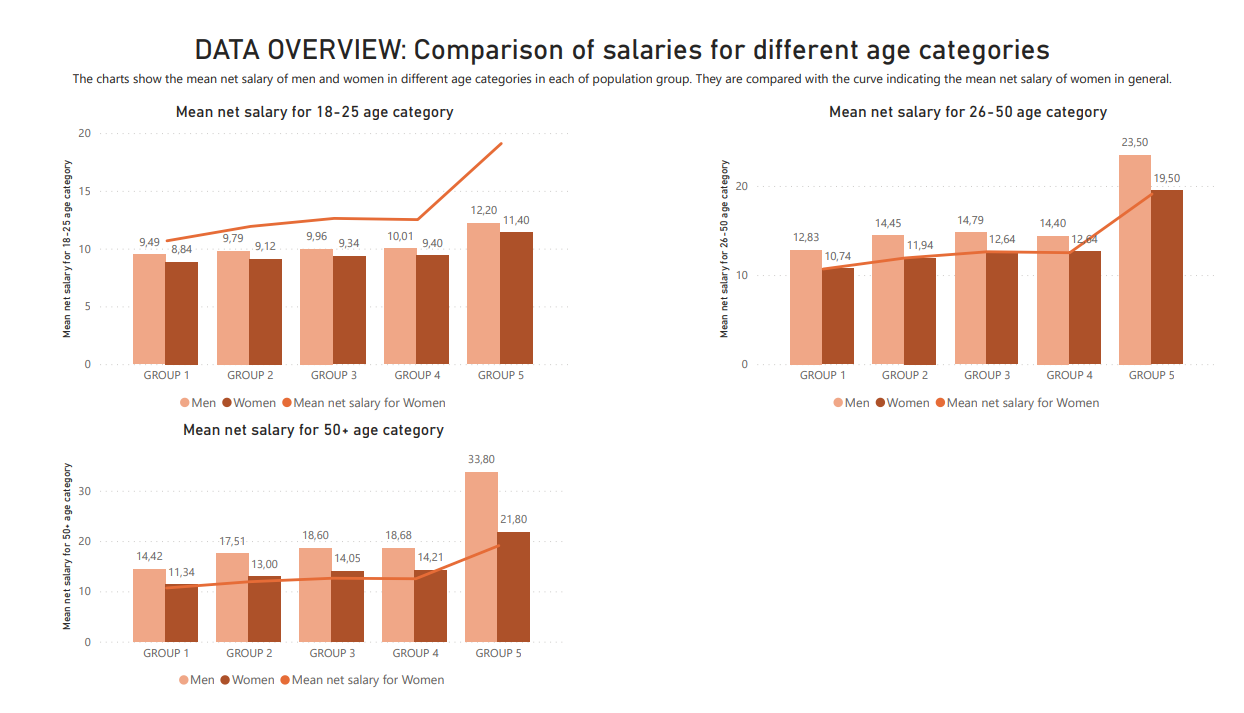

The dashboard page shown, as its layout file describes it:
{"tool":"powerbi","page":{"name":"Page 3","canvas":[1280,720],"ordinal":3},"visuals":[{"type":"lineClusteredColumnComboChart","title":"Mean net salary for 18-25 age category","fields":{"Y":["Sum(mean net in different jobs and ages for women and men.M - 18-25)","Sum(mean net in different jobs and ages for women and men.W - 18-25)"],"Category":["mean net in different jobs and ages for women and men.GROUP"],"Y2":["Sum(mean net in different jobs and ages for women and men.WOMEN)"]},"box":[37,84.6,550.5,339.5],"z":0},{"type":"lineClusteredColumnComboChart","title":"Mean net salary for 26-50 age category","fields":{"Y":["Sum(mean net in different jobs and ages for women and men.M - 26-50)","Sum(mean net in different jobs and ages for women and men.W - 26-50)"],"Category":["mean net in different jobs and ages for women and men.GROUP"],"Y2":["Sum(mean net in different jobs and ages for women and men.WOMEN)"]},"box":[738.2,84.6,541.8,339.5],"z":1000},{"type":"lineClusteredColumnComboChart","title":"Mean net salary for 50+ age category","fields":{"Category":["mean net in different jobs and ages for women and men.GROUP"],"Y":["Sum(mean net in different jobs and ages for women and men.M - 50+)","Sum(mean net in different jobs and ages for women and men.W - 50+)"],"Y2":["Sum(mean net in different jobs and ages for women and men.WOMEN)"]},"box":[36.7,424.2,547.6,295.8],"z":2000},{"type":"textbox","title":"DATA OVERVIEW: Comparison of salaries for different age categories","box":[262.6,10.7,753.8,35],"z":3000},{"type":"textbox","box":[0,45.7,1280,34],"z":4000},{"type":"textbox","title":"DATA OVERVIEW: Comparison of salaries for different age categories","box":[0,10.7,1280,35],"z":5000}]}

Visuals, with their boxes in screenshot pixels (x1, y1, x2, y2), scaled from the page's 1280x720 canvas onto the 1244x713 screenshot:
"Mean net salary for 18-25 age category" lineClusteredColumnComboChart: l=36, t=84, r=571, b=420
"Mean net salary for 26-50 age category" lineClusteredColumnComboChart: l=717, t=84, r=1243, b=420
"Mean net salary for 50+ age category" lineClusteredColumnComboChart: l=36, t=420, r=568, b=712
"DATA OVERVIEW: Comparison of salaries for different age categories" textbox: l=255, t=11, r=988, b=45
textbox: l=0, t=45, r=1243, b=79
"DATA OVERVIEW: Comparison of salaries for different age categories" textbox: l=0, t=11, r=1243, b=45
